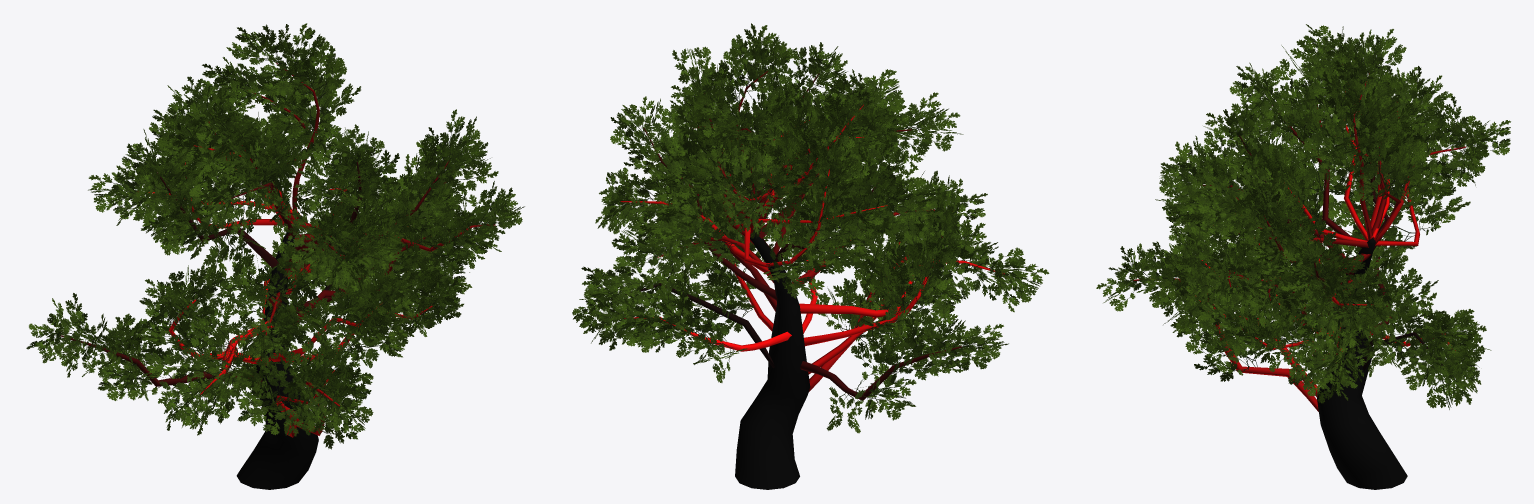
Rendered from oak1 lod0.FBX.
3 renders of one model, left to right at view 1: azimuth 30°, elevation 25°; view 2: azimuth 150°, elevation 25°; view 3: azimuth 270°, elevation 25°, orthographic. The views are drawn at different scales.
Visible parts, largest first — view 1: oak1; view 2: oak1; view 3: oak1.
Boxes of the visible parts, box(x1,y1,x2,y2) form: oak1: box(26, 23, 524, 489); oak1: box(572, 23, 1049, 489); oak1: box(1096, 24, 1510, 489).
Bounding box in the file's own units: 102972 × 100814 × 87328.
